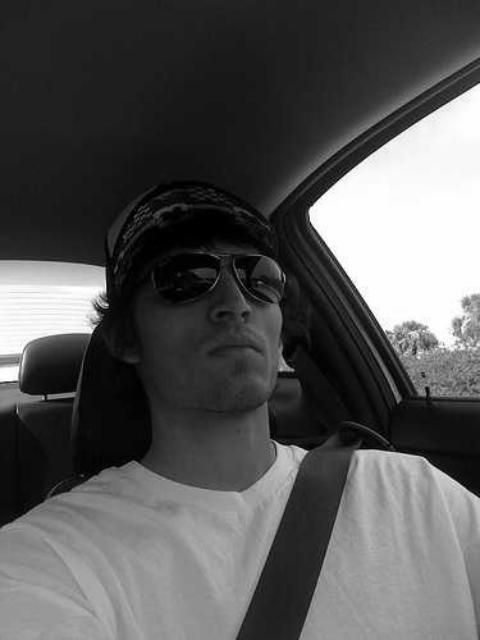Seatbelt: (231, 426, 365, 640)
